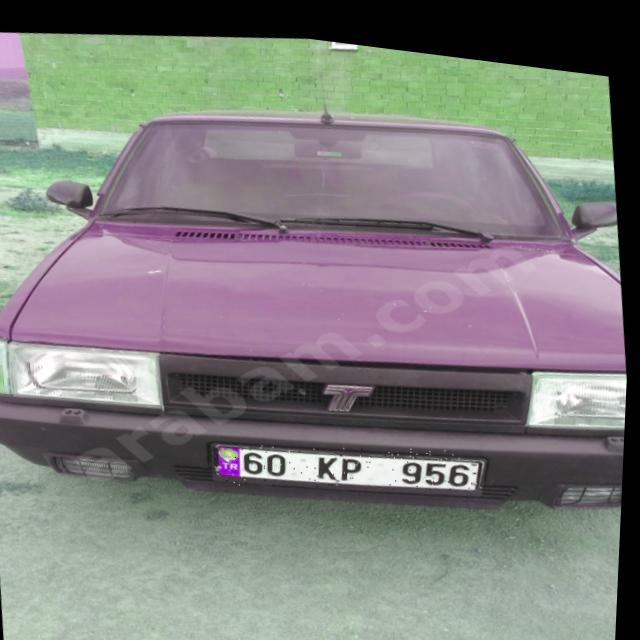license_plate: (215, 409, 491, 506)
